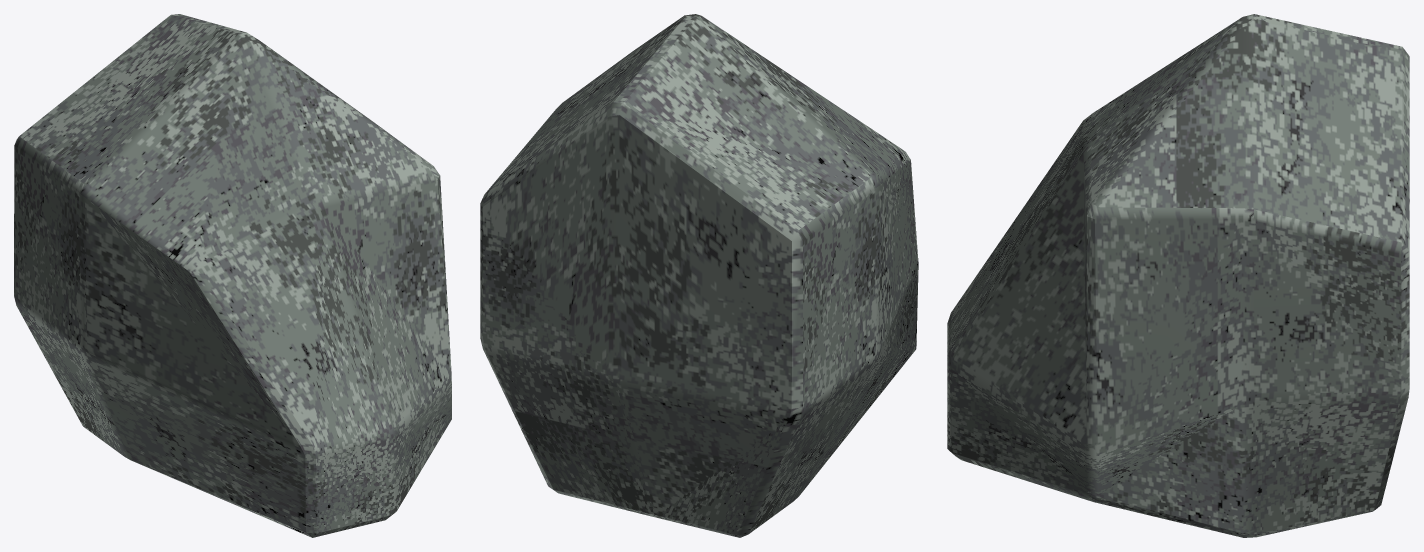
File: BigRock.fbx
The picture shows the model from 3 angles, left to right: view 1: azimuth 30°, elevation 25°; view 2: azimuth 150°, elevation 25°; view 3: azimuth 270°, elevation 25°; orthographic projection. The views are drawn at different scales.
Parts seen in each view (by area): view 1: pCube73; view 2: pCube73; view 3: pCube73.
Part boxes in pixels (x1,y1,x2,y2): pCube73: (14, 14, 451, 537); pCube73: (480, 14, 918, 537); pCube73: (947, 14, 1409, 537).
Size of the model in its own units: 1812 by 2359 by 2156.
